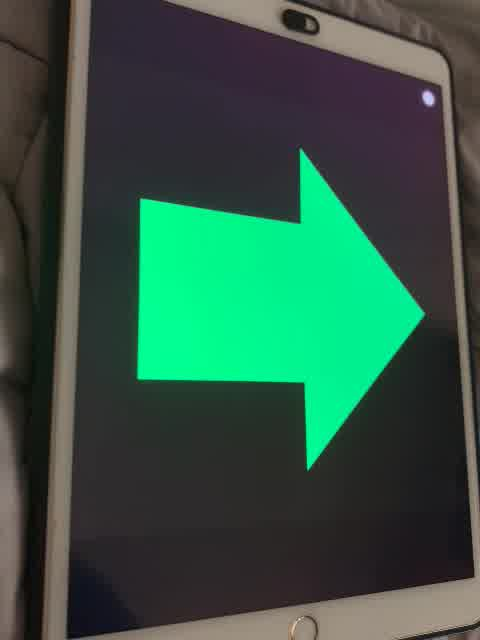right: (127, 138, 423, 475)
